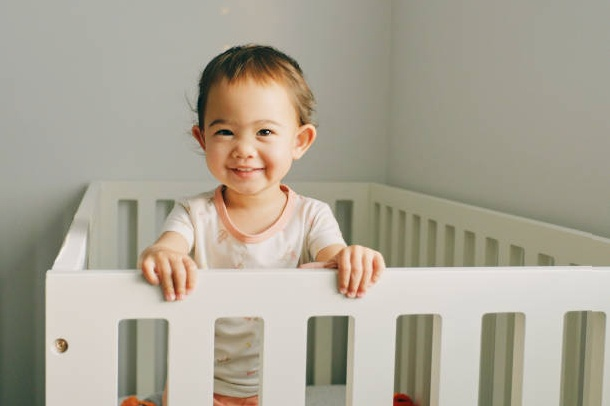baby: (139, 45, 384, 300)
crib: (46, 182, 609, 405)
